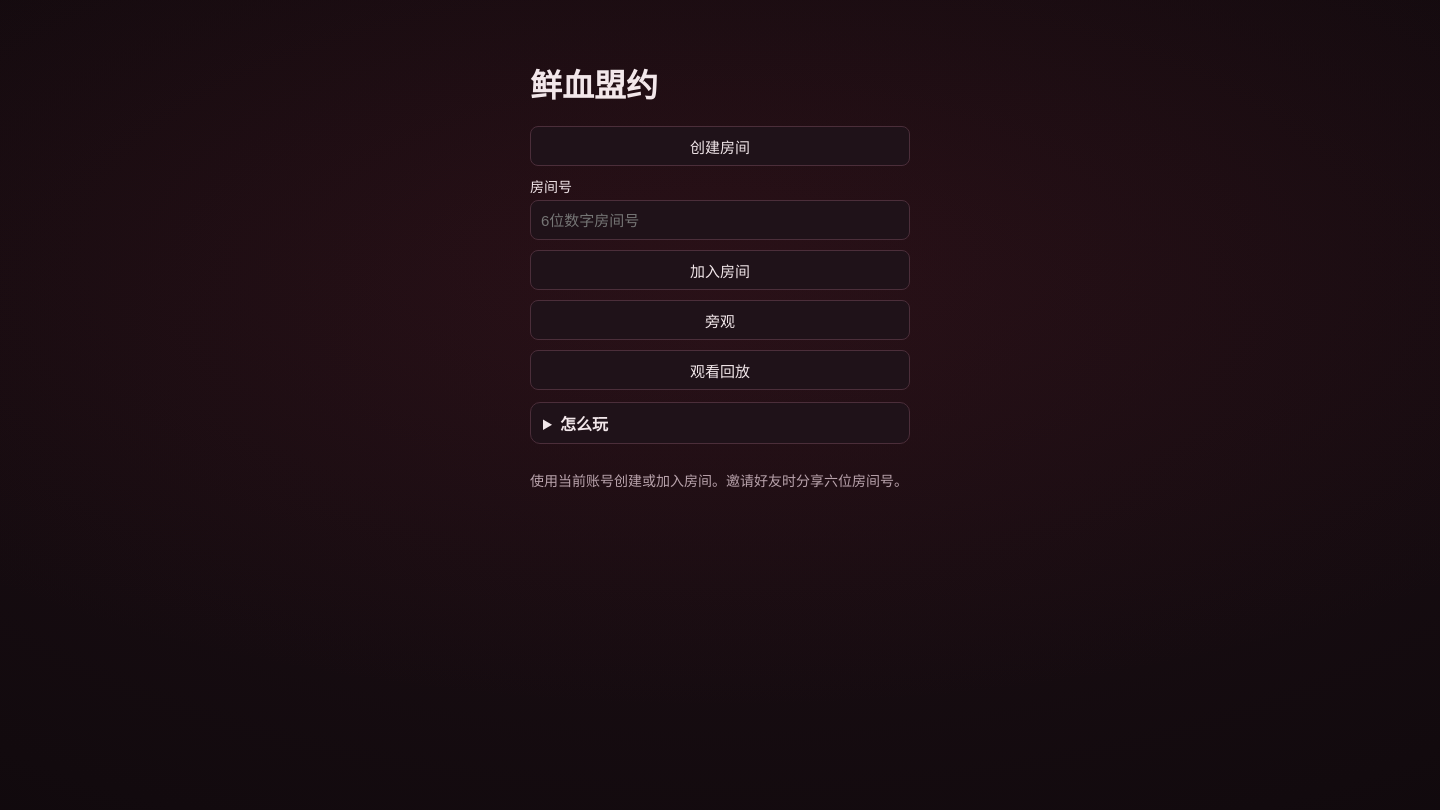
创建房间遇网络异常时显示本地兜底文案
Click the button "创建房间" at {"x": 720, "y": 146}, box [530,126,910,166]
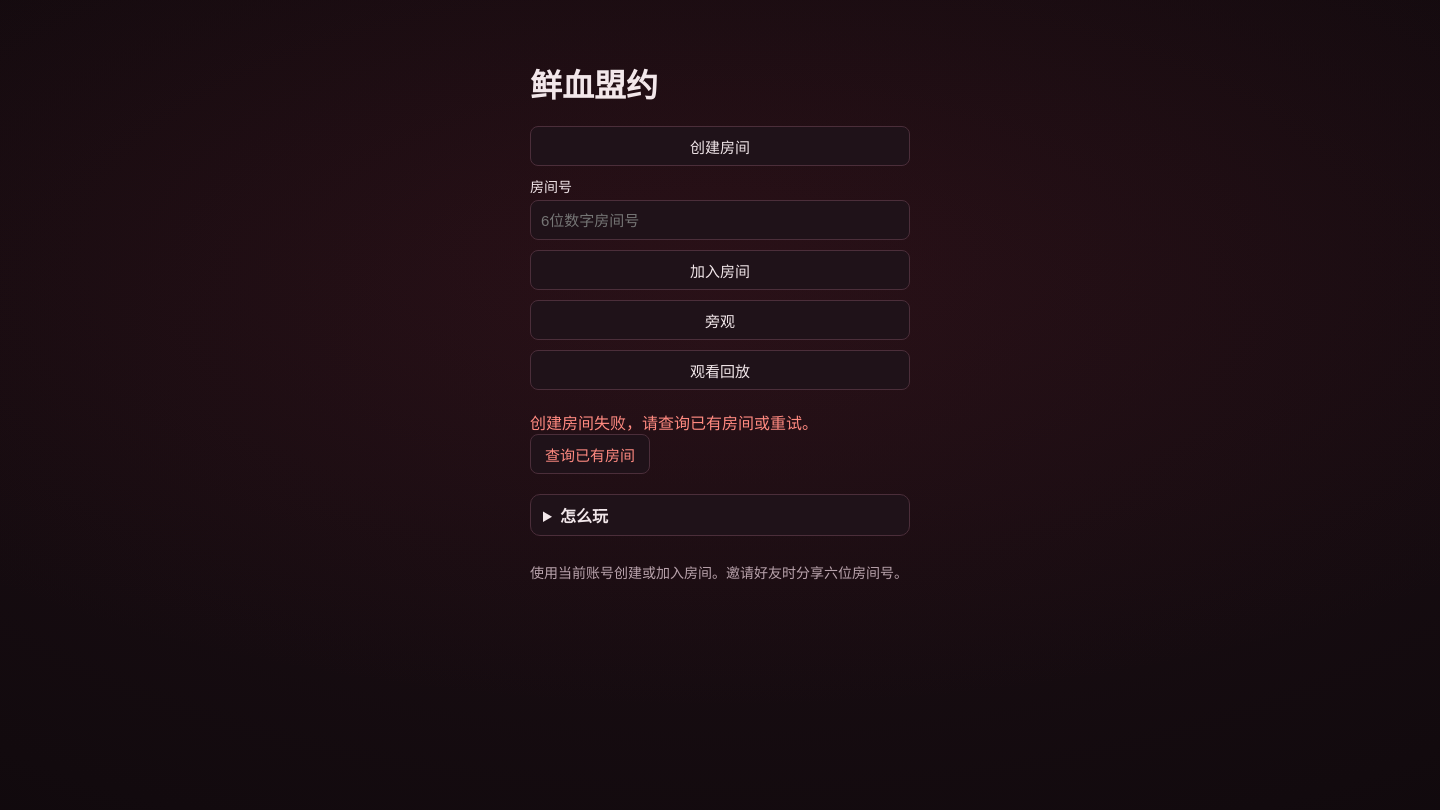
expect the message shows "创建房间失败，请查询已有房间或重试。": met, box [530,412,818,434]
